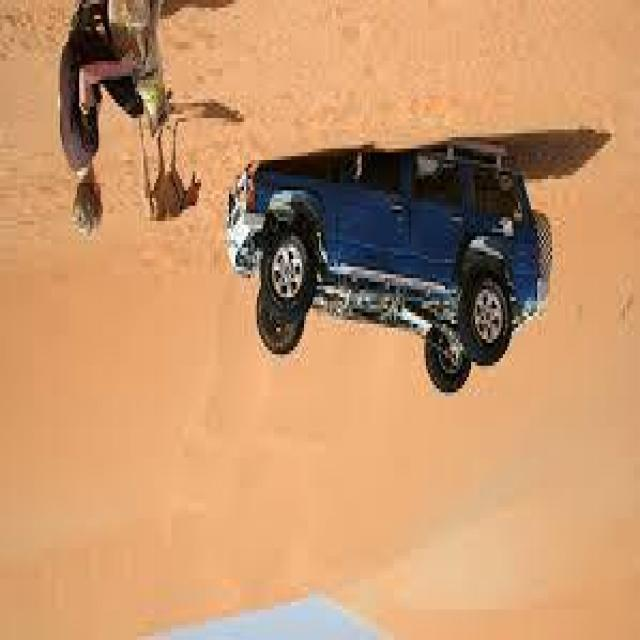severe: (218, 143, 556, 406)
